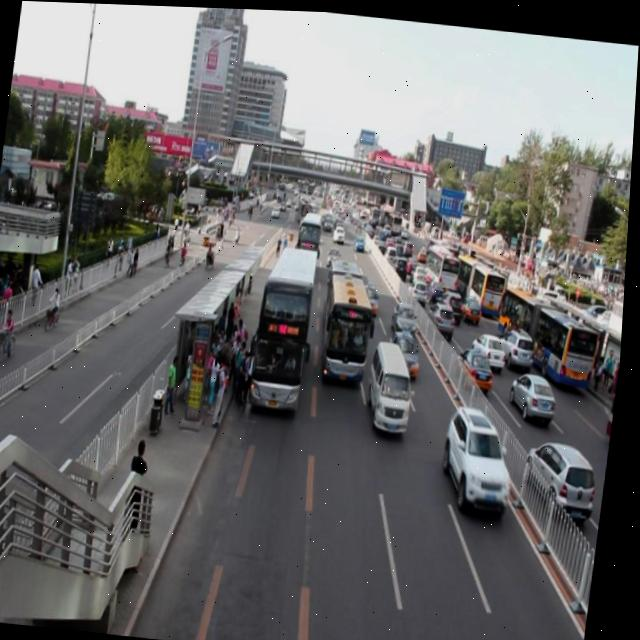car: (440, 398, 522, 514), (389, 326, 423, 375), (392, 298, 421, 333), (359, 277, 382, 314), (326, 242, 345, 265), (300, 214, 313, 233), (335, 222, 347, 241), (323, 209, 335, 228), (354, 233, 367, 248)
truck: (366, 337, 420, 431)
van: (254, 239, 320, 410), (319, 256, 379, 383), (296, 207, 324, 265)
